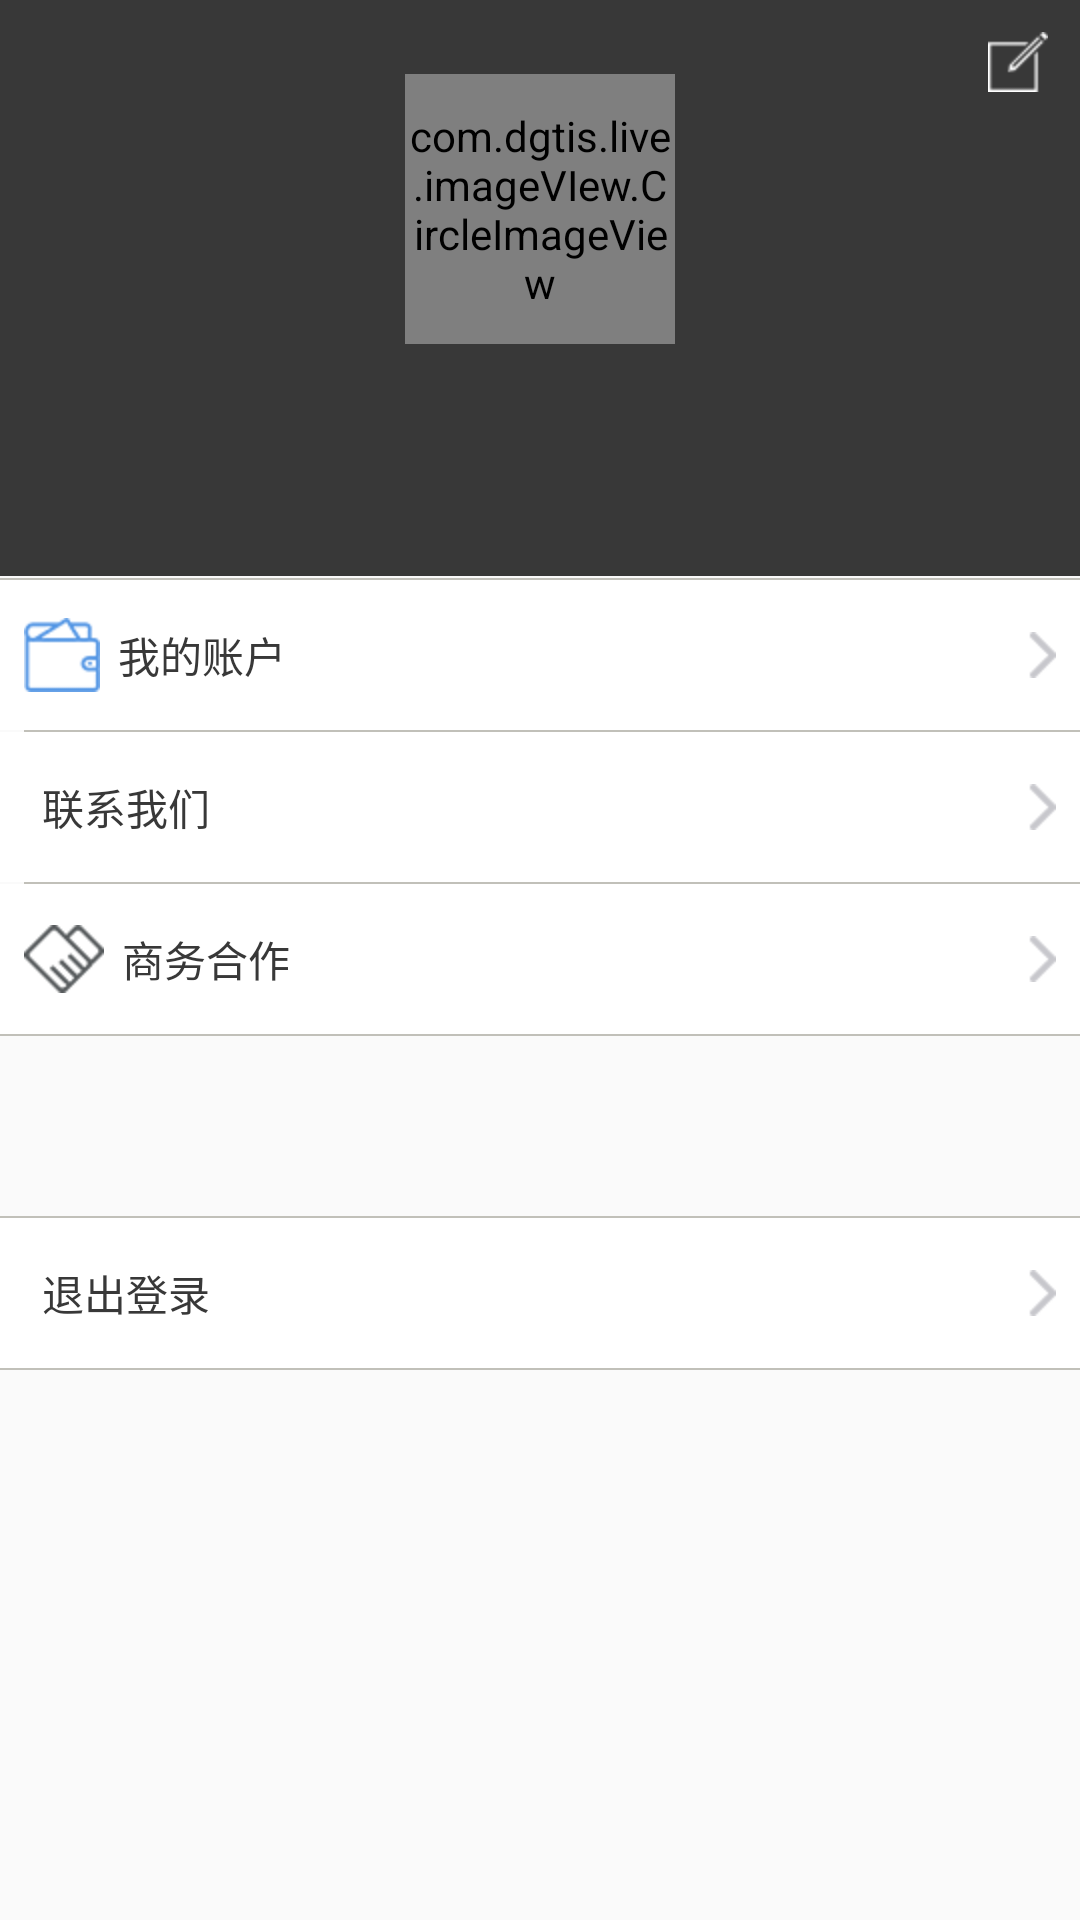

Screen size 1080px×1920px. Icon name, then its box in pixels as rect(x1, y1, x2, y2):
personal account: rect(24, 618, 100, 692)
personal cooperation: rect(24, 925, 104, 993)
personal modification: rect(988, 32, 1048, 92)
personal right: rect(1030, 632, 1056, 678), rect(1030, 784, 1056, 830), rect(1030, 936, 1056, 982), rect(1030, 1270, 1056, 1316)
